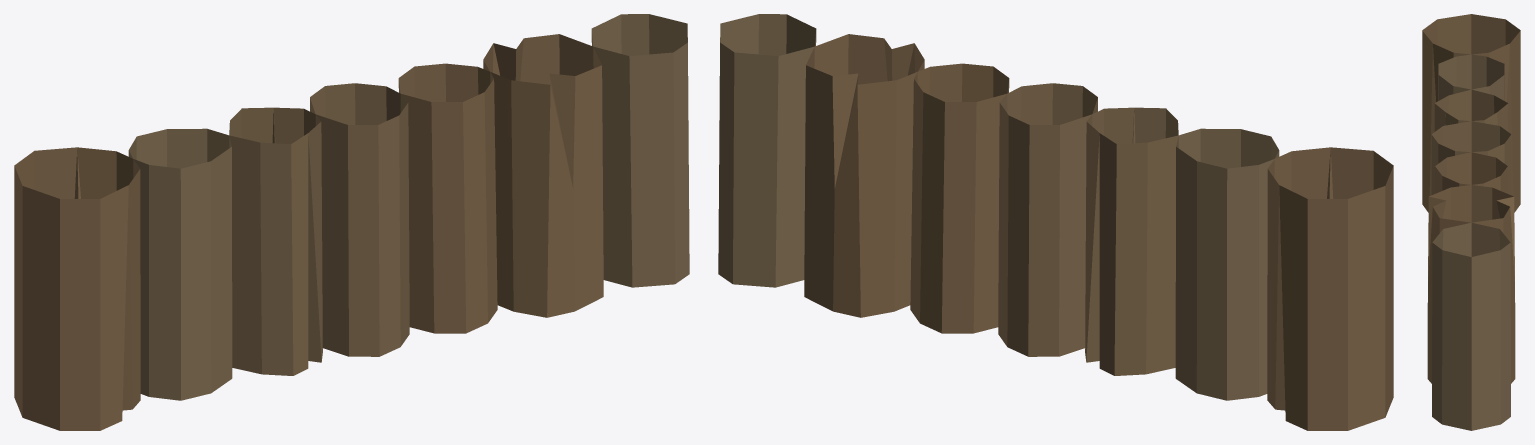
The model's file is rpgpp_ag_wall_02_3x1_a.fbx.
3 renders of one model, left to right at view 1: azimuth 30°, elevation 25°; view 2: azimuth 150°, elevation 25°; view 3: azimuth 270°, elevation 25°, orthographic. The views are drawn at different scales.
Visible parts, largest first — view 1: rpgpp_ag_wall_02_3x1_a; view 2: rpgpp_ag_wall_02_3x1_a; view 3: rpgpp_ag_wall_02_3x1_a.
Part boxes in pixels (left/top/right/bottom): rpgpp_ag_wall_02_3x1_a: left=14, top=14, right=689, bottom=430; rpgpp_ag_wall_02_3x1_a: left=718, top=14, right=1393, bottom=430; rpgpp_ag_wall_02_3x1_a: left=1422, top=14, right=1520, bottom=430.
Bounding box in the file's own units: 3 × 1 × 0.5143.
